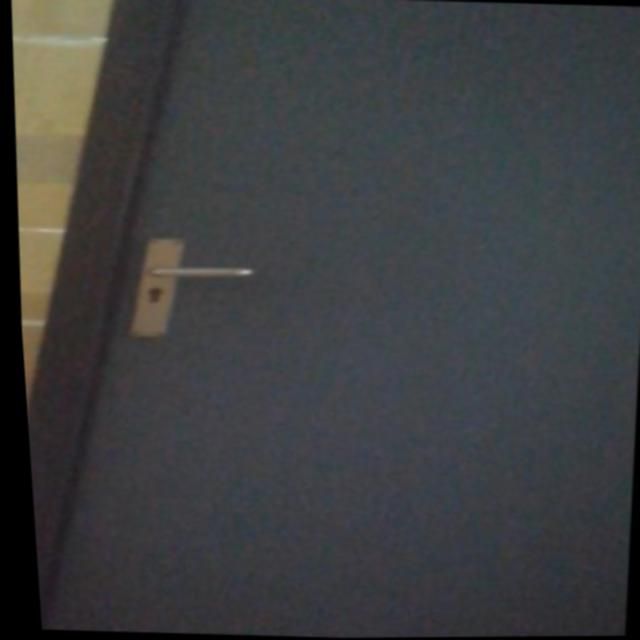door_handle: (146, 262, 265, 291)
